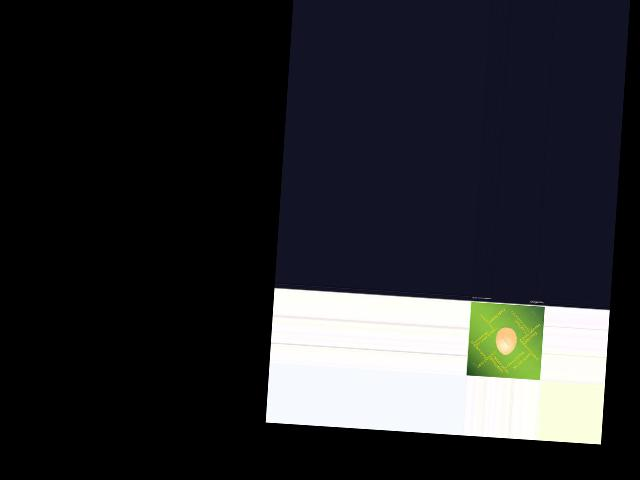egg: (494, 327, 517, 354)
